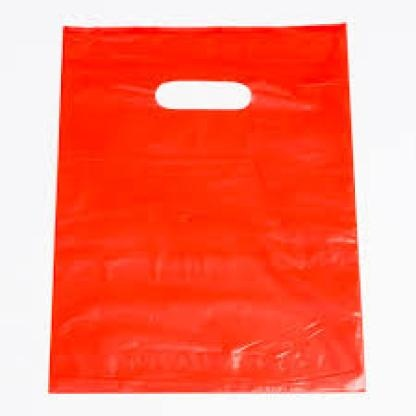trash: (49, 23, 364, 392)
